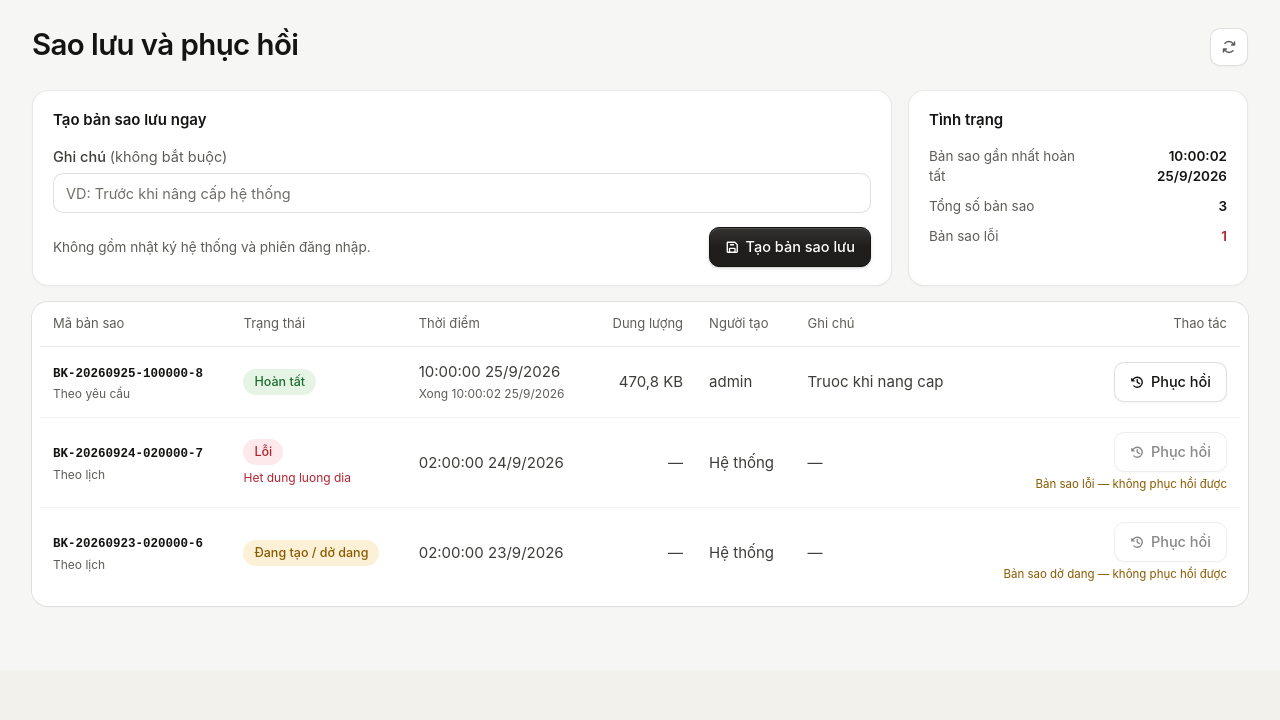
BackupRestorePage (NCL-15-CN-003) › TC-01: tạo bản sao theo yêu cầu → báo thời điểm và dung lượng, bản sao đứng đầu danh sách
Expected: the row with test id "backup-row-8" is shown, [40,346,1240,418]
Type "  Kiem thu " into the field with test id "backup-note" at (462, 193), box [53,173,871,213]
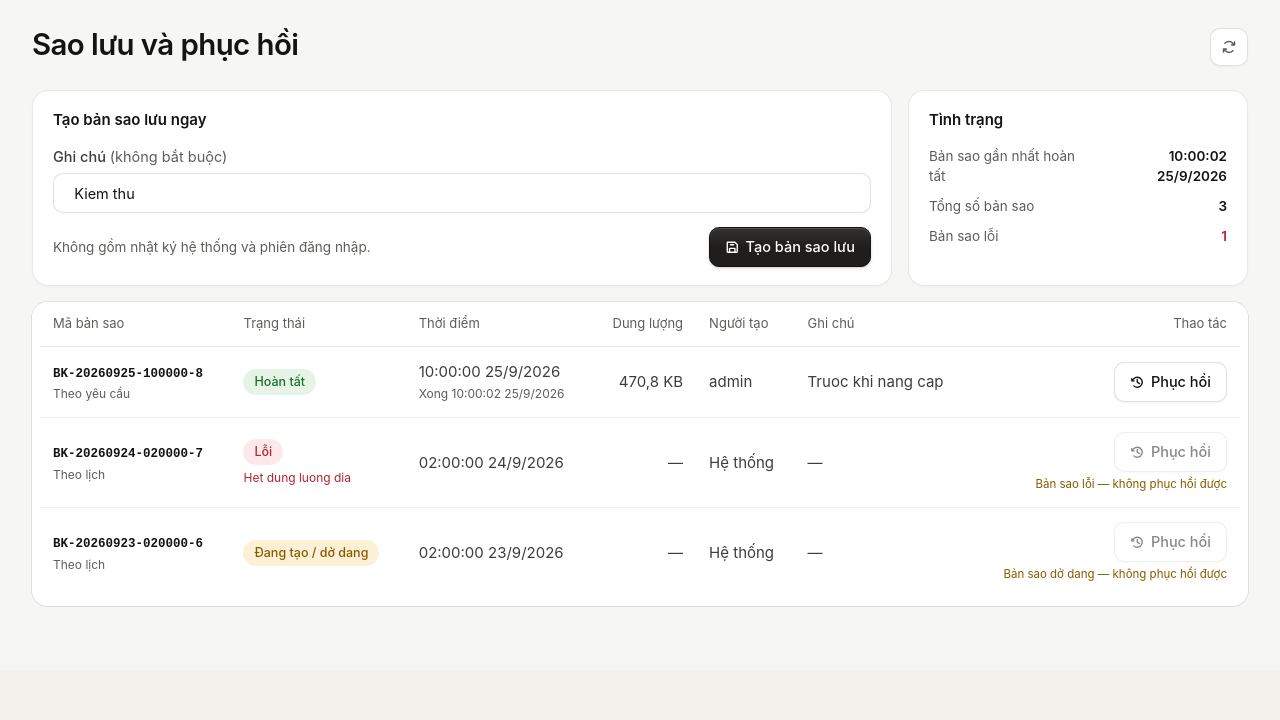
Click the button with test id "backup-create" showing "Tạo bản sao lưu" at (790, 247), box [709,227,871,267]
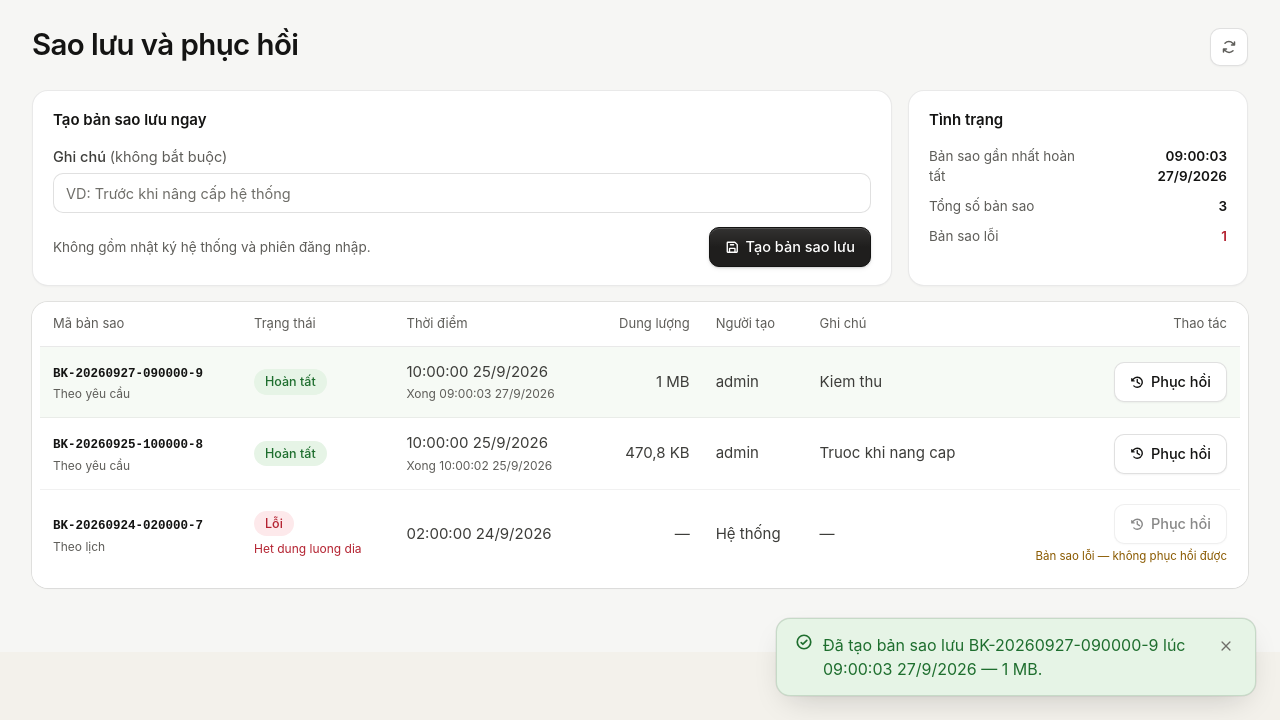
Expected: the row with test id "backup-row-9" is shown, [40,346,1240,418]
Expected: the field with test id "backup-note" is empty, [53,173,871,213]
